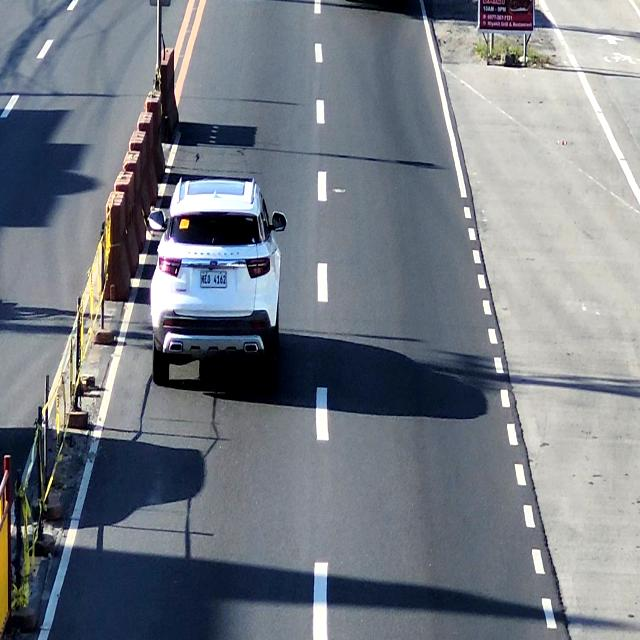Car: (154, 178, 279, 383)
License-Plate: (199, 268, 228, 290)
